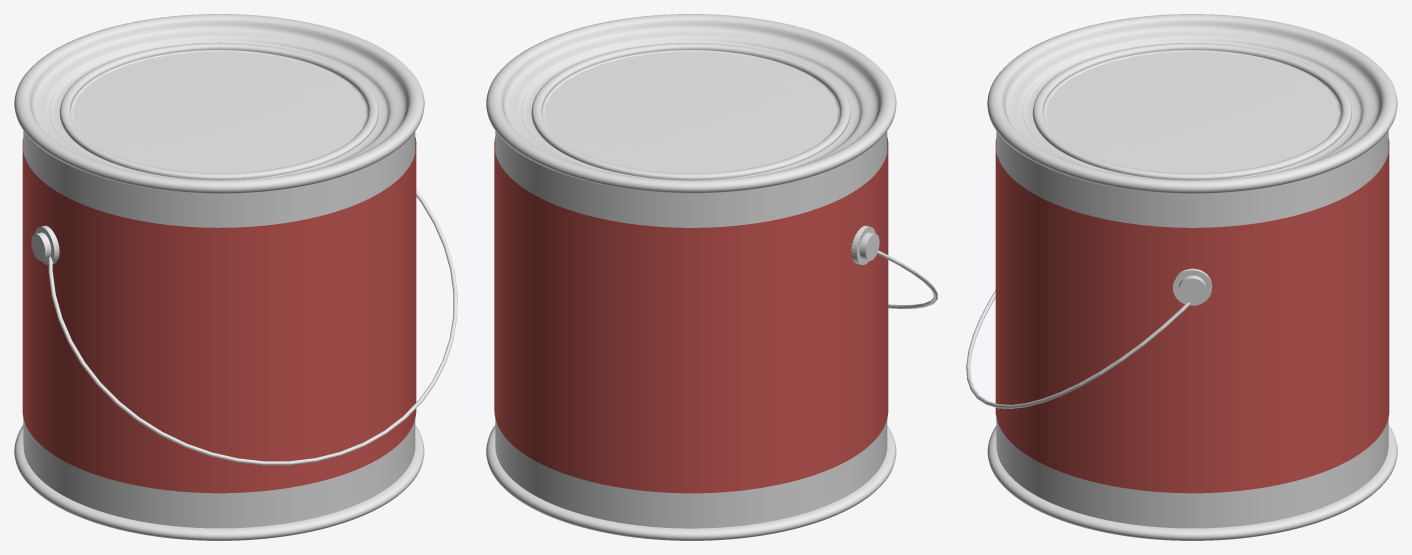
File: Paintcan.fbx
3 views of the same model, side by side, from view 1: azimuth 30°, elevation 25°; view 2: azimuth 150°, elevation 25°; view 3: azimuth 270°, elevation 25° (orthographic).
Visible parts, largest first — view 1: Cylinder.004, Cylinder.003, Cylinder.001, Cylinder.002, Torus.000, Cylinder.006; view 2: Cylinder.004, Cylinder.003, Cylinder.001, Cylinder.002, Cylinder.006, Torus.000; view 3: Cylinder.004, Cylinder.003, Cylinder.001, Cylinder.002, Torus.000, Cylinder.005.
Part boxes in pixels (x1=…): Cylinder.004: x1=22, y1=137, x2=416, y2=493; Cylinder.003: x1=14, y1=14, x2=424, y2=193; Cylinder.001: x1=23, y1=130, x2=415, y2=528; Cylinder.002: x1=14, y1=425, x2=424, y2=540; Torus.000: x1=48, y1=190, x2=457, y2=465; Cylinder.006: x1=31, y1=225, x2=59, y2=264; Cylinder.004: x1=494, y1=137, x2=888, y2=493; Cylinder.003: x1=486, y1=14, x2=896, y2=193; Cylinder.001: x1=495, y1=131, x2=887, y2=528; Cylinder.002: x1=486, y1=425, x2=896, y2=540; Cylinder.006: x1=851, y1=225, x2=879, y2=264; Torus.000: x1=877, y1=250, x2=937, y2=308; Cylinder.004: x1=995, y1=138, x2=1389, y2=493; Cylinder.003: x1=987, y1=14, x2=1397, y2=193; Cylinder.001: x1=996, y1=131, x2=1388, y2=528; Cylinder.002: x1=987, y1=425, x2=1397, y2=540; Torus.000: x1=966, y1=290, x2=1191, y2=408; Cylinder.005: x1=1173, y1=268, x2=1212, y2=305.
Size of the model in its own units: 69.13 by 61.29 by 66.88.
